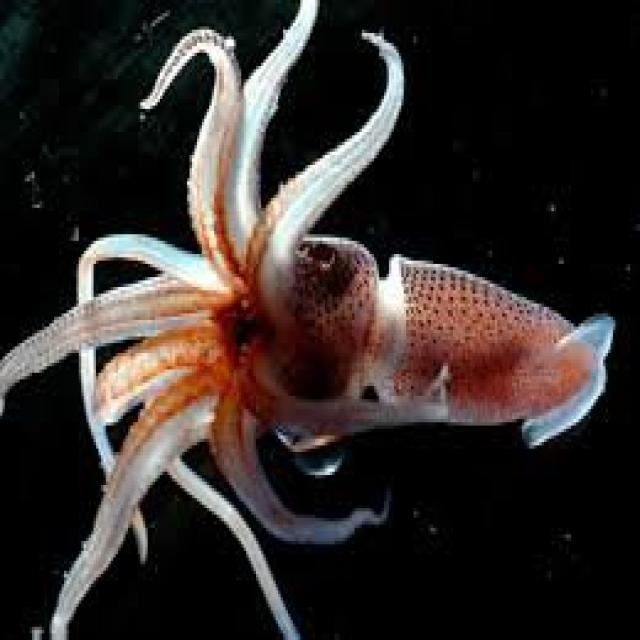squid: (0, 0, 613, 637)
